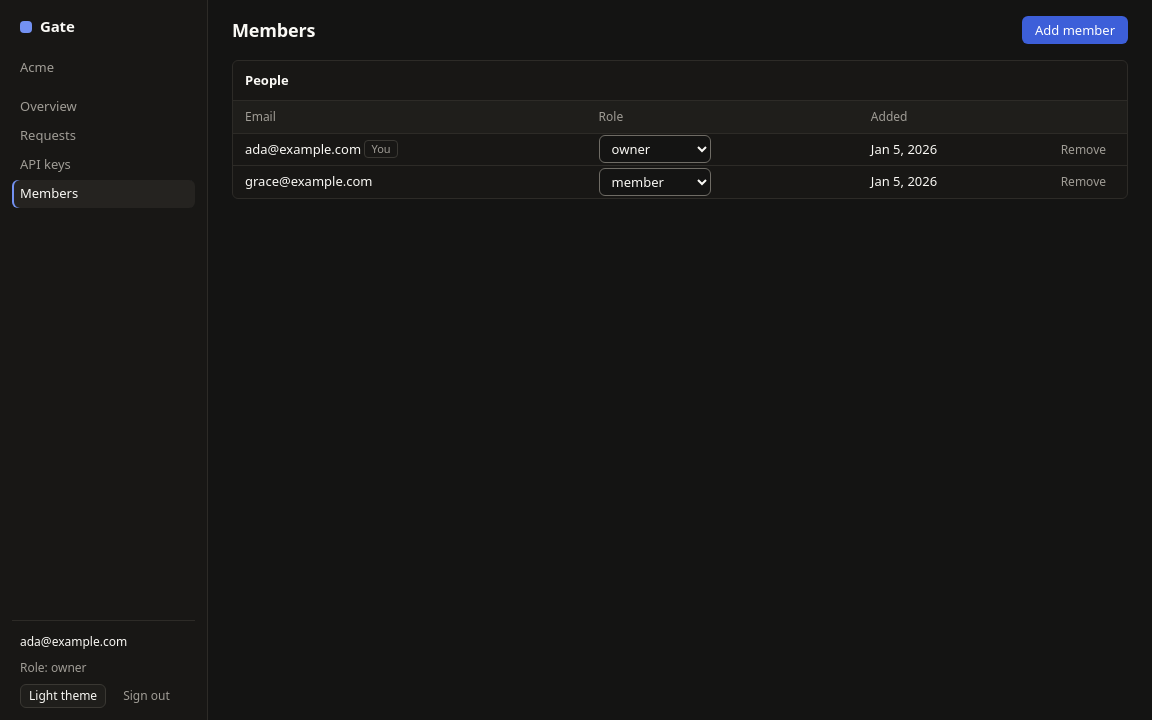
Test: members: change role and remove › removes only after confirmation
What coordinates should you click on to do the following:
click the button with aria-label "Remove grace@example.com"
I would click on:
 (1083, 182)
Its box is [1052,170,1115,194].
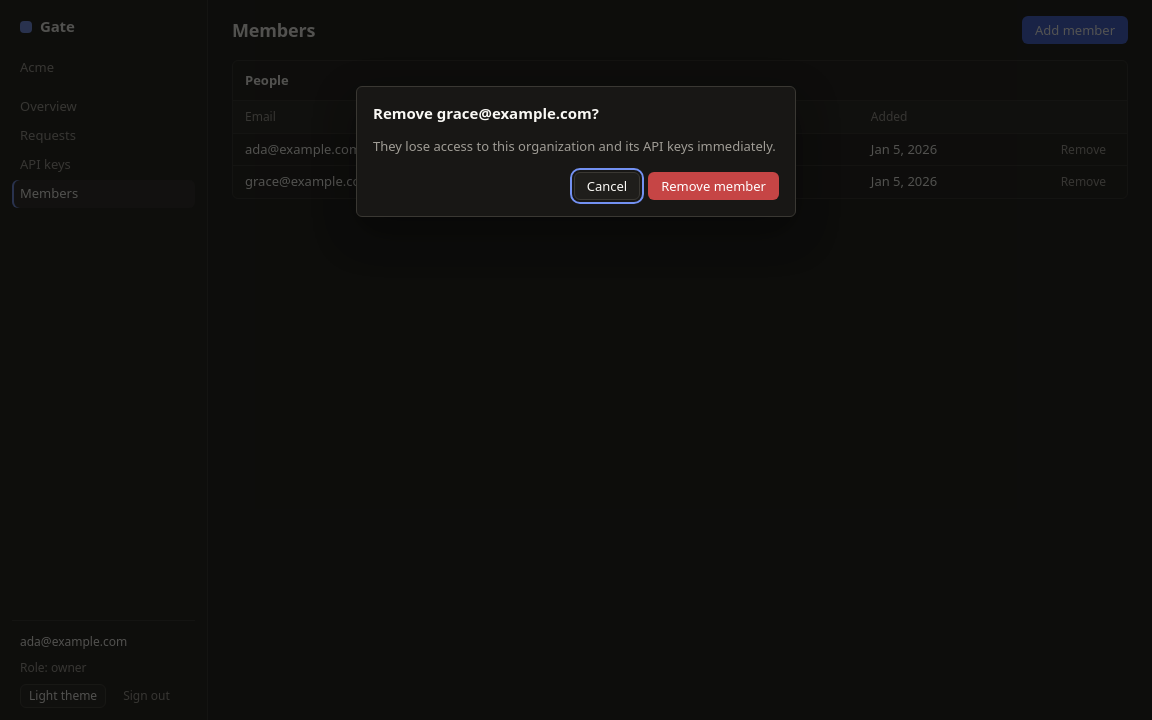
What coordinates should you click on to do the following:
click the button "Remove member"
I would click on:
 (714, 186)
Its box is [648,172,779,200].
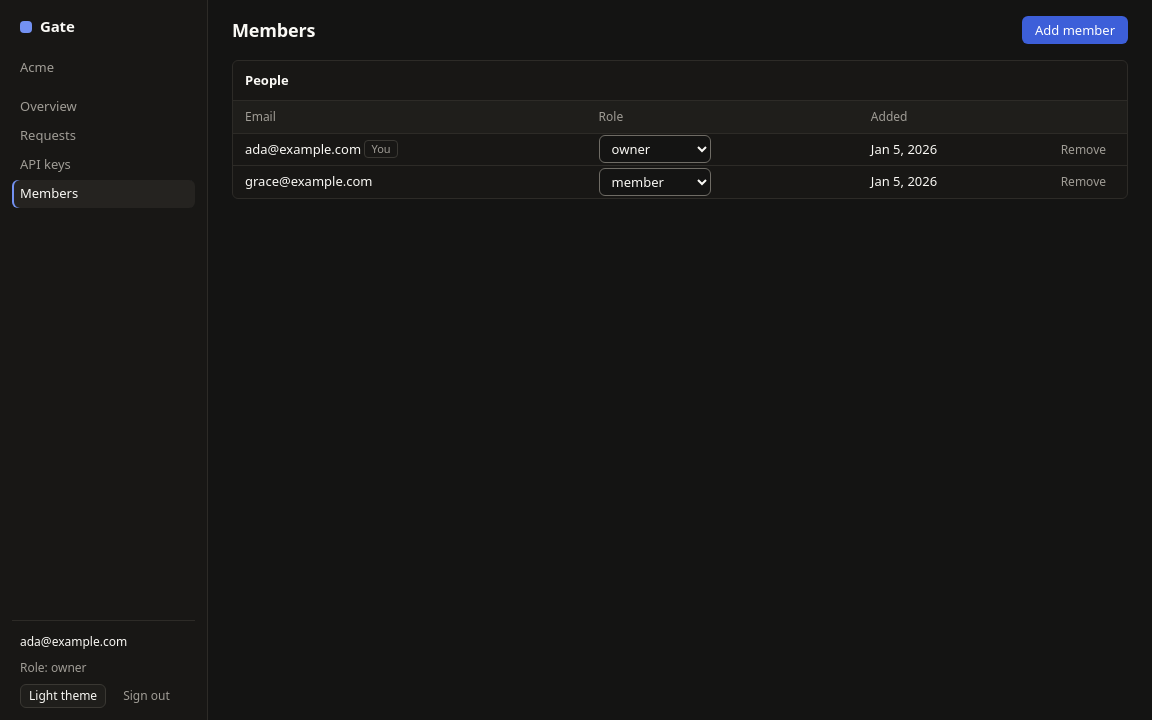
Now the dialog is gone
